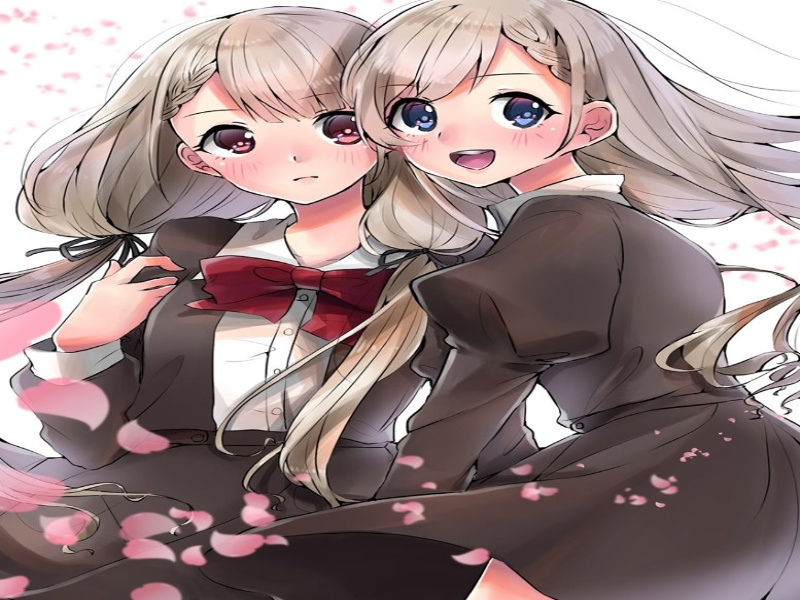dress: (8, 195, 444, 600)
person: (412, 192, 800, 597), (350, 1, 656, 205), (135, 23, 404, 208)
